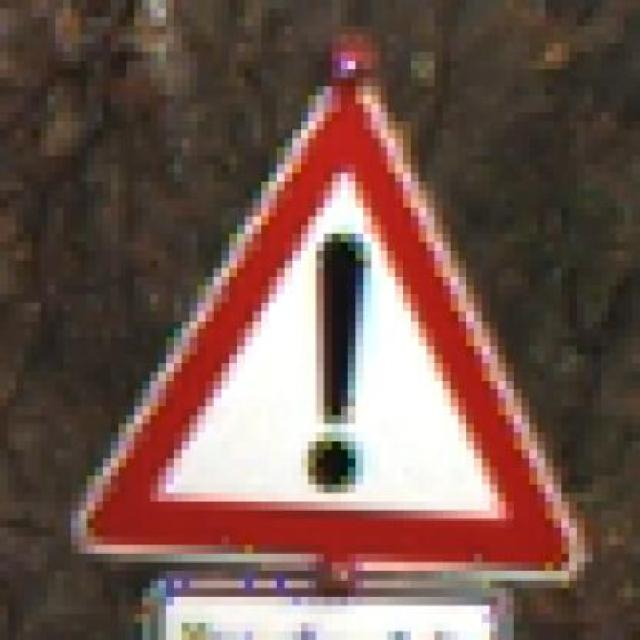Attention Please-: (47, 78, 601, 579)
